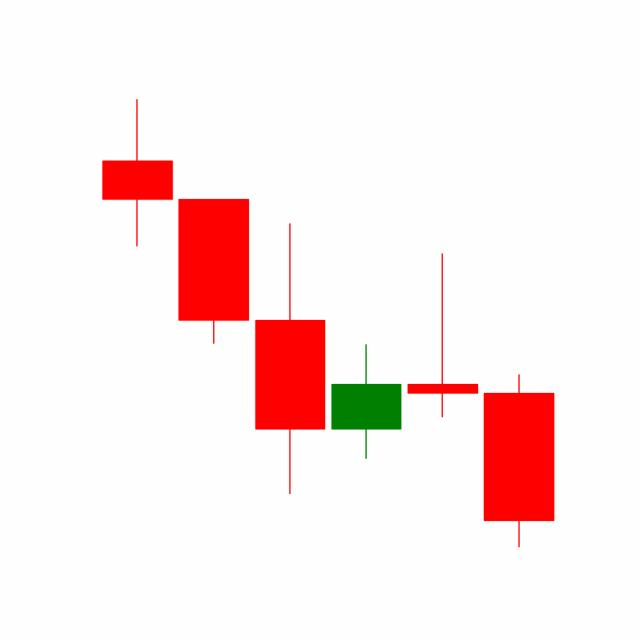Gravestone Doji: (403, 252, 481, 419)
